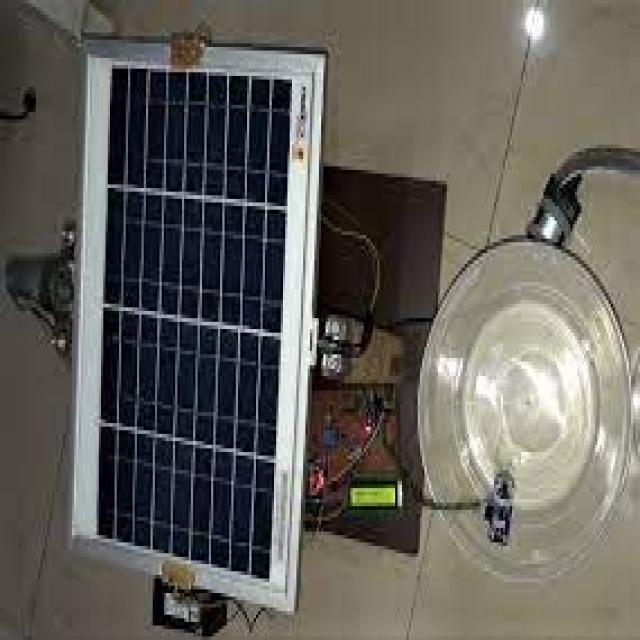no faulty: (94, 61, 292, 569)
